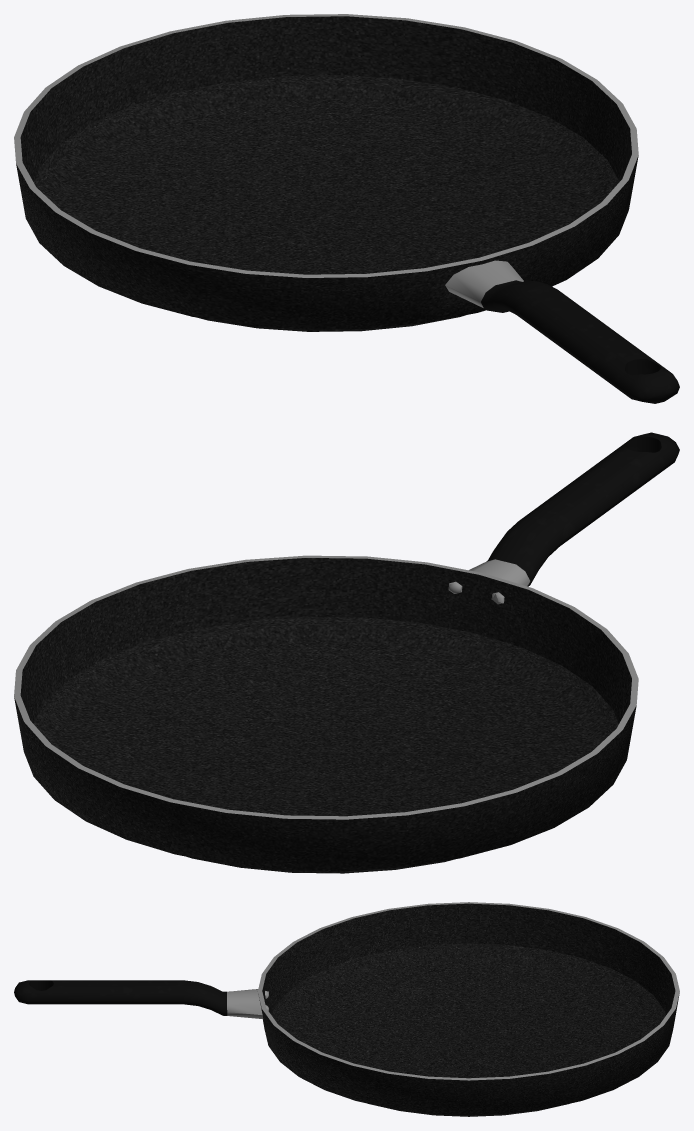
The model's file is Frying_Pan_2.fbx.
The picture shows the model from 3 angles, top to bottom: view 1: azimuth 30°, elevation 25°; view 2: azimuth 150°, elevation 25°; view 3: azimuth 270°, elevation 25°; orthographic projection. The views are drawn at different scales.
Visible parts, largest first — view 1: Fry_pan; view 2: Fry_pan; view 3: Fry_pan.
Boxes of the visible parts, box(x1,y1,x2,y2) form: Fry_pan: box(14, 14, 679, 403); Fry_pan: box(14, 432, 679, 873); Fry_pan: box(14, 902, 679, 1116).
Size of the model in its own units: 36.4 by 5.41 by 57.42.
